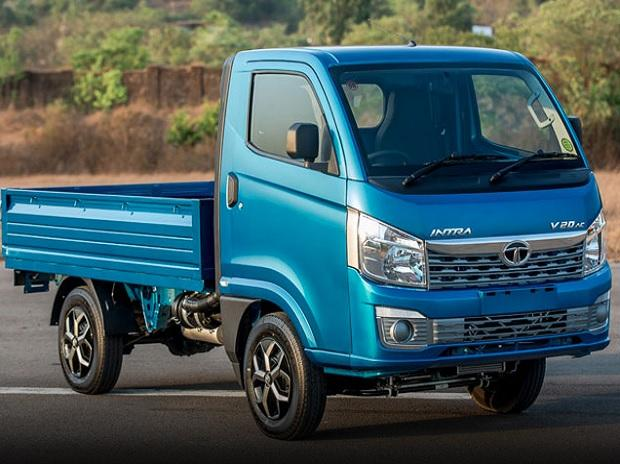Truck: (2, 40, 616, 444)
